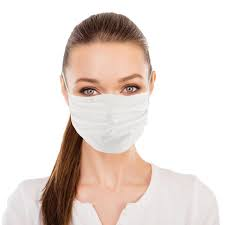cloth_mask: (66, 92, 153, 154)
